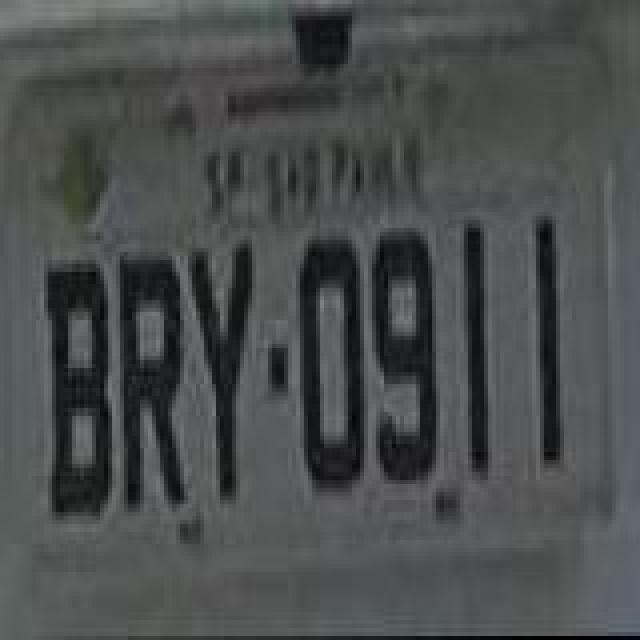1: (464, 214, 496, 486), (536, 208, 568, 472)
9: (368, 230, 440, 494)
B: (44, 260, 116, 524)
O: (296, 230, 368, 502)
R: (118, 256, 186, 520)
Y: (190, 238, 258, 510)
